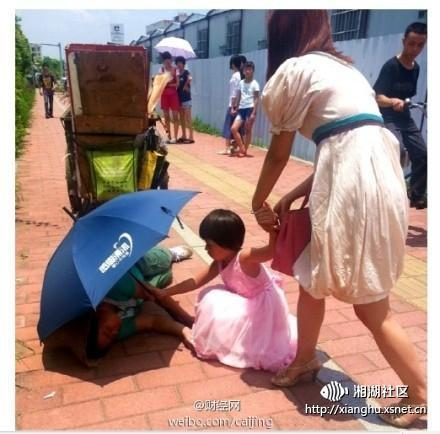Fall-Detected: (68, 238, 196, 368)
